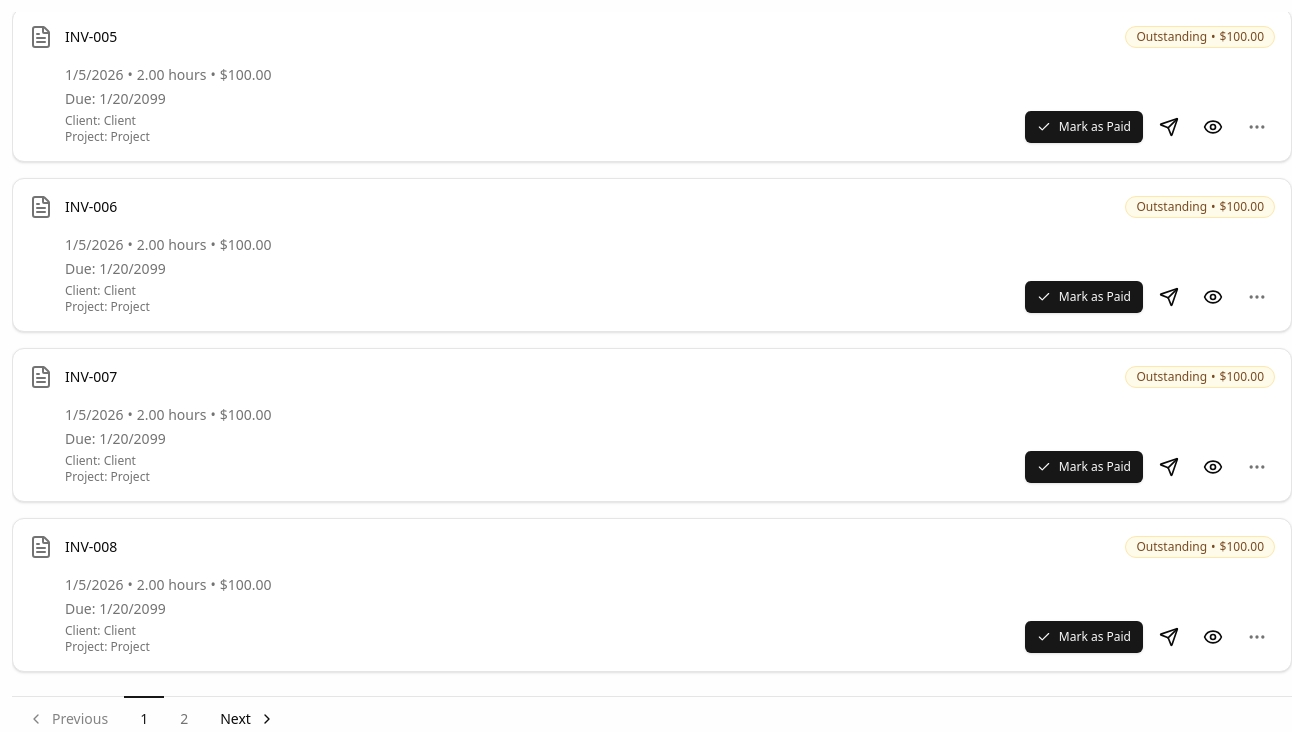
Scenario: InvoicesList › paginates outstanding invoices
This screenshot has width=1292, height=732.
Check: the button "Next" is shown, box x1=204 y1=696 x2=291 y2=731
Click the button "2" at (184, 714), box x1=164 y1=696 x2=204 y2=731
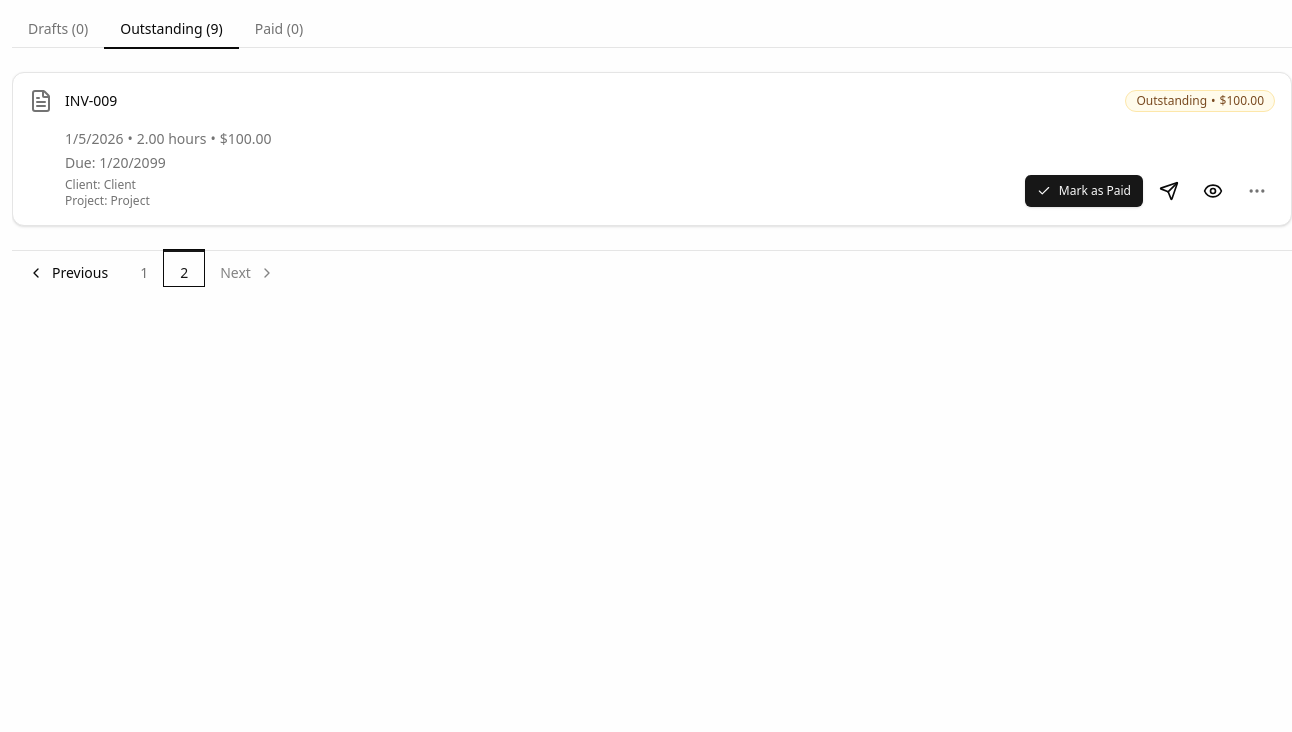
Check: the heading "INV-009" is shown, box x1=65 y1=91 x2=117 y2=111
